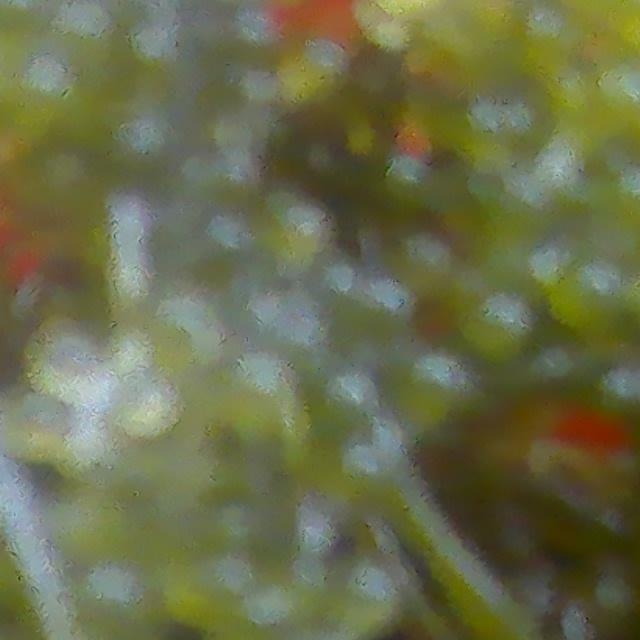SeaGrape: (457, 285, 539, 368), (24, 325, 103, 402), (546, 261, 626, 329), (118, 378, 182, 440), (592, 170, 640, 238)
